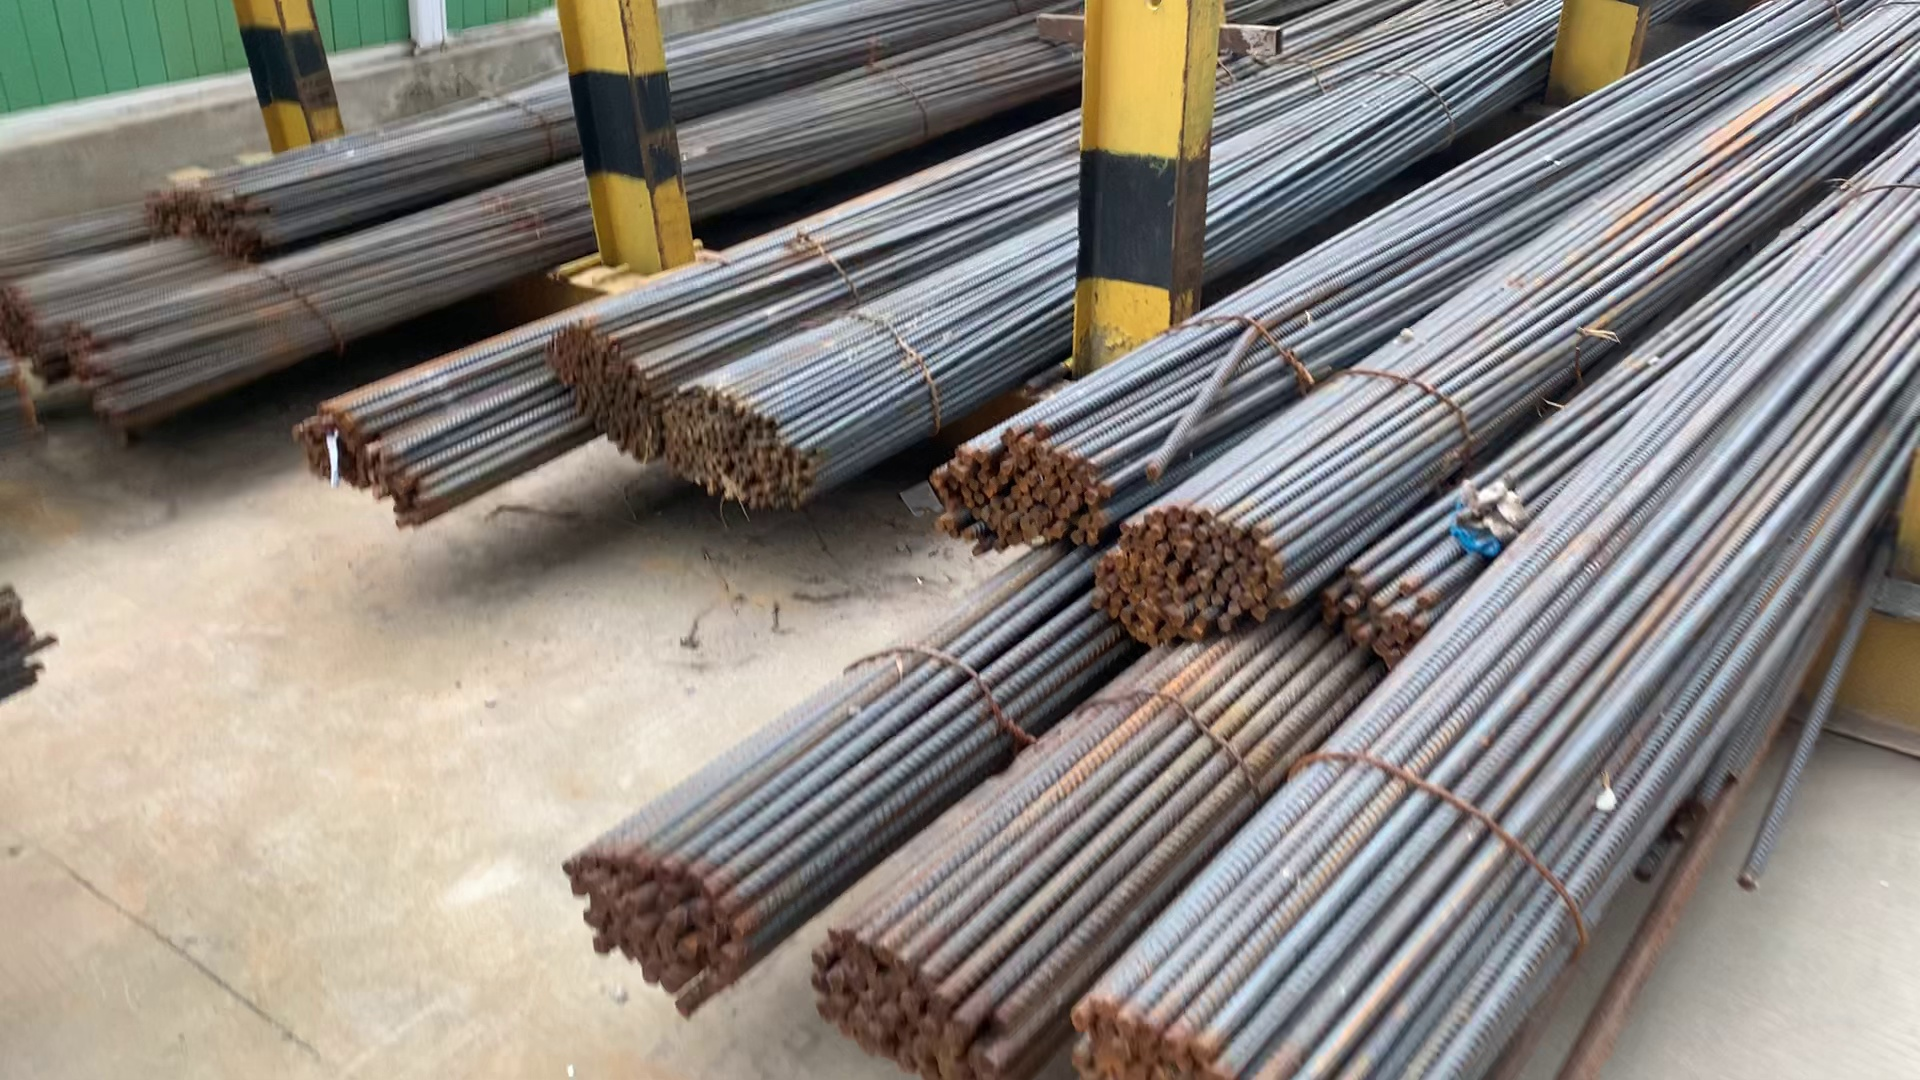rebar: (554, 837, 762, 1014), (810, 913, 1021, 1080), (1093, 512, 1292, 642), (919, 430, 1102, 553), (658, 380, 814, 516), (287, 404, 436, 531), (553, 316, 659, 472), (1069, 978, 1230, 1080), (135, 183, 284, 265), (55, 324, 152, 439), (1323, 572, 1435, 661)
